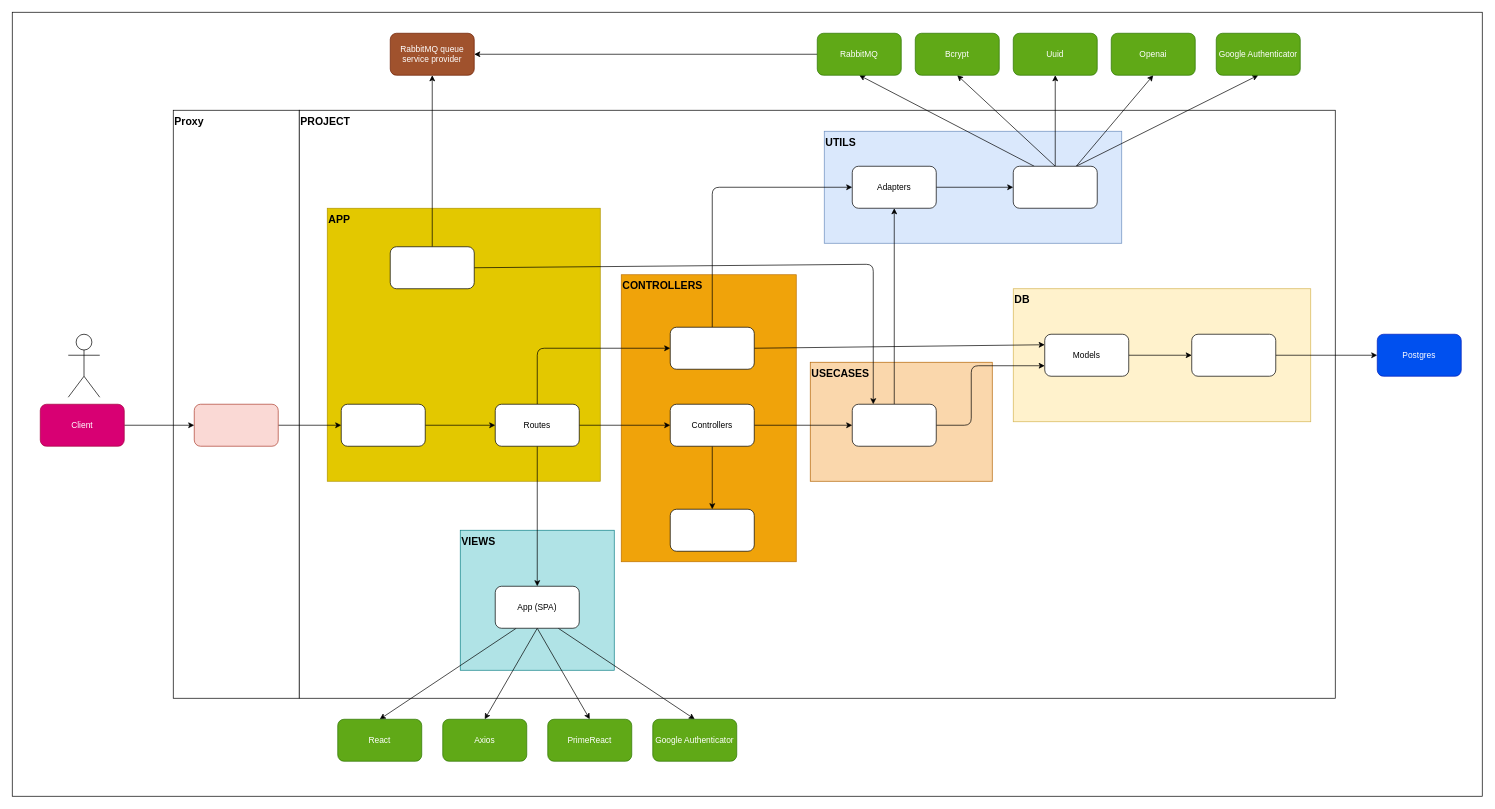
Some shapes in this 1495 by 809 pixel diagram are drawn without their labels. Each missing label, with the box of its shape:
Api: (341, 404, 425, 446)
Databases: (1191, 334, 1276, 376)
External libs: (1013, 166, 1097, 208)
Middlewares: (670, 327, 754, 369)
Nginx: (194, 404, 278, 446)
QueueConsumer: (390, 246, 474, 289)
Services: (852, 404, 936, 446)
Validators: (670, 509, 754, 551)
